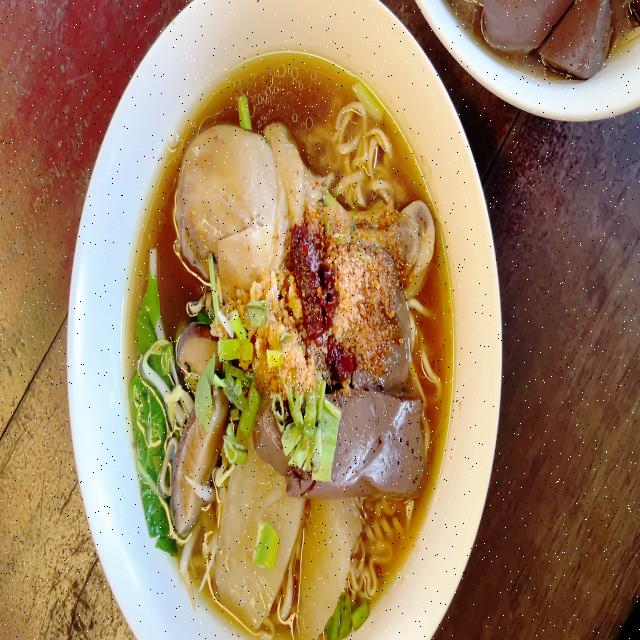boiled_chicken_blood_jelly: (325, 400, 432, 504)
chicken_drumstick: (169, 124, 436, 294)
daikon_radish: (216, 484, 357, 624)
noodle: (112, 44, 460, 640)
